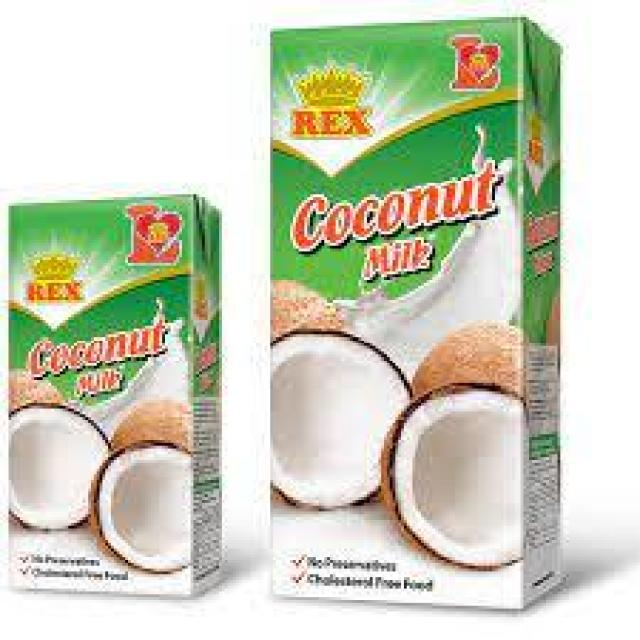drink carton: (270, 20, 567, 611), (9, 194, 225, 593)
